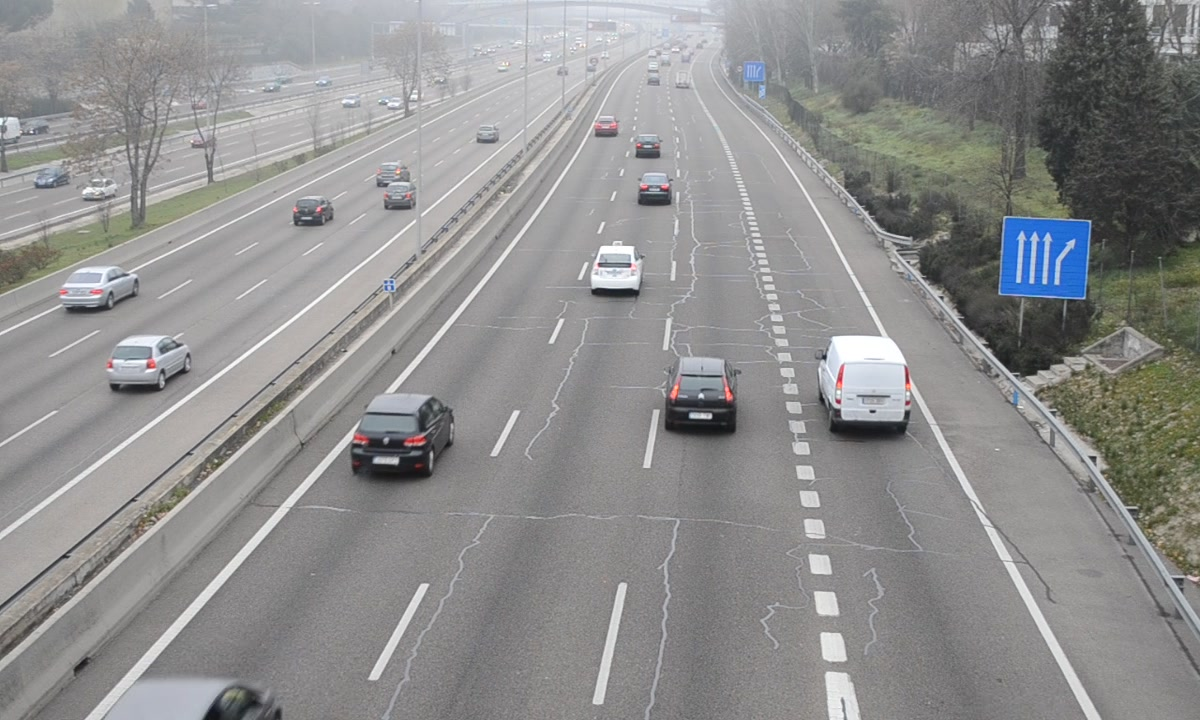car: (351, 395, 453, 477), (666, 358, 737, 430), (590, 246, 643, 289), (637, 172, 673, 207), (634, 131, 662, 159), (593, 114, 619, 137)
van: (822, 335, 912, 433)
